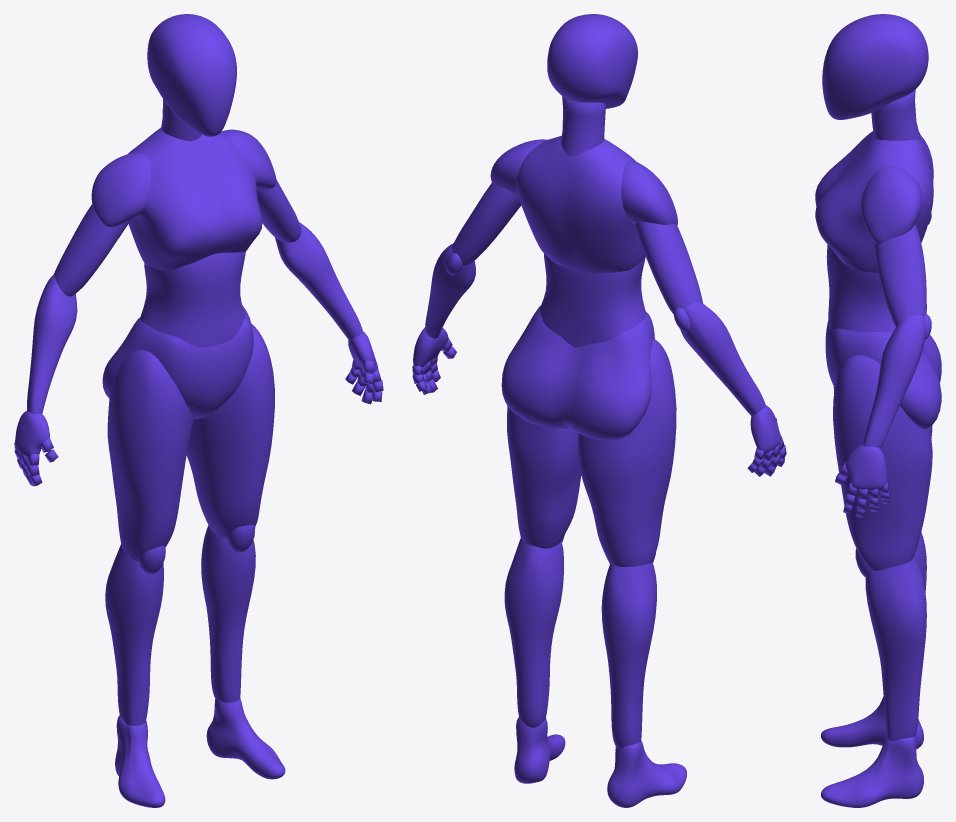
Rendered from PlasticFig.glb.
3 renders of one model, left to right at view 1: azimuth 30°, elevation 25°; view 2: azimuth 150°, elevation 25°; view 3: azimuth 270°, elevation 25°, orthographic.
Visible parts, largest first — view 1: F_Chest, F_Upper_Leg_R, F_Upper_Leg_L, F_Head, F_Stomach, F_Hips, F_Lower_Leg_R, F_Lower_Leg_L, F_Lower_Arm_R, F_Lower_Arm_L, F_Shoulder_R, F_Feet_L (+7 smaller); view 2: F_Hips, F_Chest, F_Upper_Leg_R, F_Lower_Leg_L, F_Upper_Leg_L, F_Lower_Leg_R, F_Stomach, F_Head, F_Lower_Arm_R, F_Upper_Arm_R, F_Feet_R, F_Upper_Arm_L (+7 smaller); view 3: F_Upper_Leg_L, F_Head, F_Chest, F_Lower_Leg_L, F_Hips, F_Feet_L, F_Lower_Arm_L, F_Stomach, F_Upper_Arm_L, F_Shoulder_L, F_Feet_R, F_Neck (+3 smaller).
Part boxes in pixels (x1=…): F_Chest: x1=128, y1=127, x2=262, y2=270; F_Upper_Leg_R: x1=107, y1=350, x2=193, y2=561; F_Upper_Leg_L: x1=186, y1=324, x2=274, y2=538; F_Head: x1=147, y1=14, x2=236, y2=136; F_Stomach: x1=140, y1=252, x2=245, y2=347; F_Hips: x1=102, y1=306, x2=253, y2=419; F_Lower_Leg_R: x1=105, y1=544, x2=163, y2=725; F_Lower_Leg_L: x1=201, y1=525, x2=255, y2=702; F_Lower_Arm_R: x1=27, y1=275, x2=77, y2=413; F_Lower_Arm_L: x1=275, y1=222, x2=363, y2=340; F_Shoulder_R: x1=91, y1=152, x2=151, y2=226; F_Feet_L: x1=206, y1=699, x2=285, y2=779; F_Hips: x1=501, y1=305, x2=654, y2=440; F_Chest: x1=516, y1=135, x2=645, y2=273; F_Upper_Leg_R: x1=578, y1=339, x2=676, y2=567; F_Lower_Leg_L: x1=504, y1=538, x2=563, y2=727; F_Upper_Leg_L: x1=507, y1=406, x2=581, y2=548; F_Lower_Leg_R: x1=601, y1=562, x2=656, y2=748; F_Stomach: x1=539, y1=254, x2=646, y2=347; F_Head: x1=547, y1=14, x2=637, y2=108; F_Lower_Arm_R: x1=680, y1=302, x2=766, y2=415; F_Upper_Arm_R: x1=634, y1=221, x2=702, y2=314; F_Feet_R: x1=607, y1=741, x2=686, y2=807; F_Upper_Arm_L: x1=452, y1=183, x2=521, y2=265; F_Upper_Leg_L: x1=833, y1=355, x2=932, y2=570; F_Head: x1=822, y1=14, x2=928, y2=119; F_Chest: x1=815, y1=131, x2=933, y2=272; F_Lower_Leg_L: x1=865, y1=557, x2=926, y2=740; F_Hips: x1=825, y1=321, x2=941, y2=429; F_Feet_L: x1=821, y1=736, x2=923, y2=807; F_Lower_Arm_L: x1=863, y1=315, x2=925, y2=448; F_Stomach: x1=826, y1=245, x2=895, y2=332; F_Upper_Arm_L: x1=874, y1=223, x2=926, y2=326; F_Shoulder_L: x1=861, y1=166, x2=922, y2=243; F_Feet_R: x1=821, y1=696, x2=923, y2=749; F_Neck: x1=871, y1=89, x2=920, y2=140.
Bounding box in the file's own units: 5.27 × 10.71 × 1.63.
